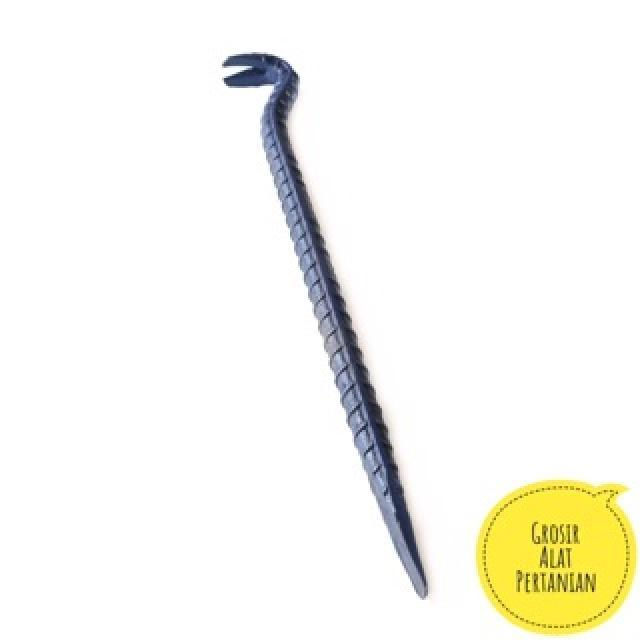Linggis: (213, 37, 442, 608)
